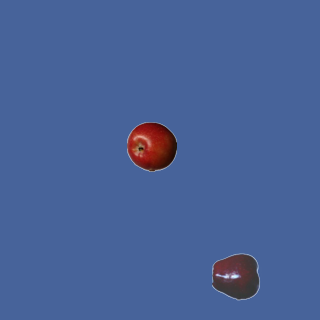Apple Braeburn: (126, 121, 176, 171)
Apple Red Delicious: (211, 251, 261, 301)
